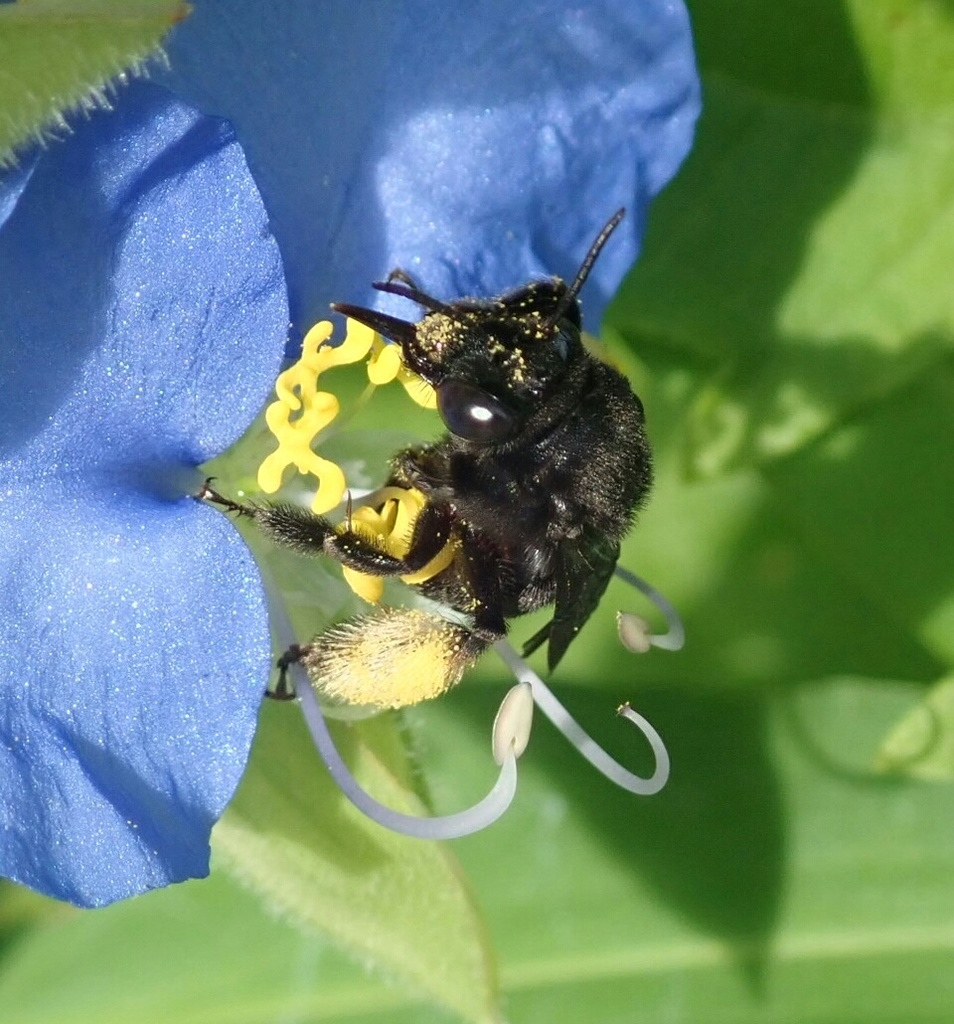not_bumblebee: (194, 201, 657, 717)
